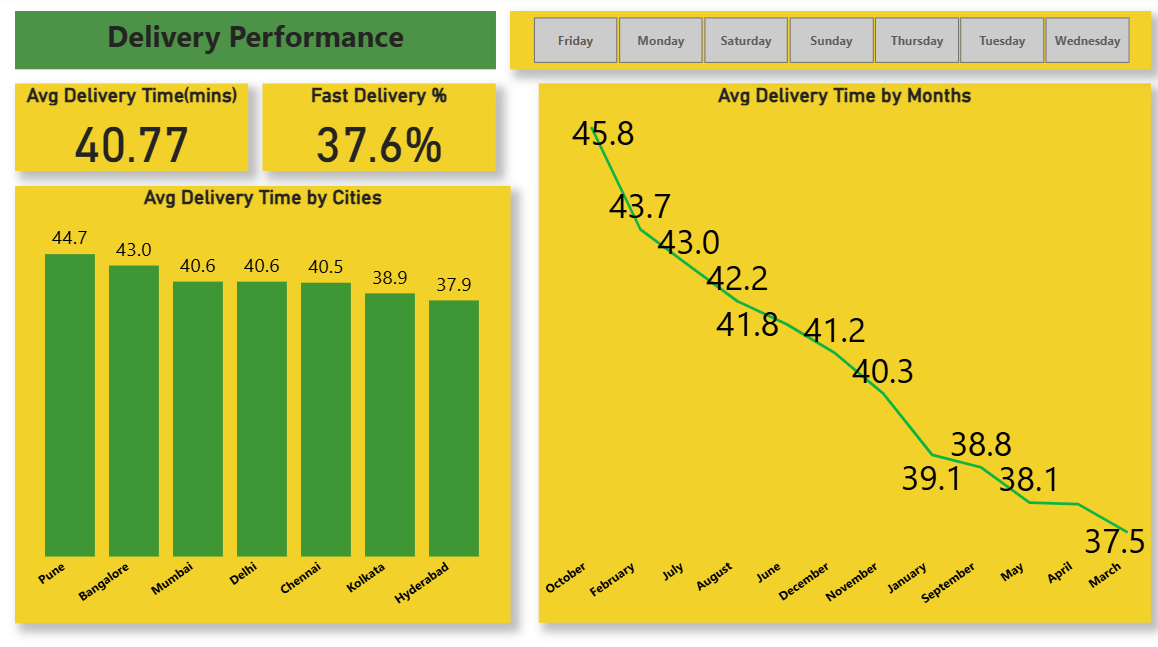

What the dashboard file says about the page in this screenshot:
{"tool":"powerbi","page":{"name":"Delivery Performance","canvas":[1280,720],"ordinal":3},"visuals":[{"type":"textbox","box":[16,16,528,64],"z":0},{"type":"card","title":"Avg Delivery Time(mins)","fields":{"Values":["new_update_blinkit_dataset.Avg Delivery Time"]},"box":[16,96,256,96],"z":1000},{"type":"card","title":"Fast Delivery %","fields":{"Values":["new_update_blinkit_dataset.Fast Delivery %"]},"box":[288,96,256,96],"z":2000},{"type":"clusteredColumnChart","title":"Avg Delivery Time by Cities","fields":{"Y":["new_update_blinkit_dataset.Avg Delivery Time"],"Category":["new_update_blinkit_dataset.City"]},"box":[16,208,544,480],"z":3000},{"type":"lineChart","title":"Avg Delivery Time by Months","fields":{"Category":["new_update_blinkit_dataset.Month"],"Y":["Avg(new_update_blinkit_dataset.Delivery Time (mins))"]},"box":[592,96,672,592],"z":4000},{"type":"slicer","fields":{"Values":["new_update_blinkit_dataset.Day"]},"box":[560,16,704,64],"z":5000}]}

Visuals, with their boxes in screenshot pixels (x1, y1, x2, y2), scaled from the page's 1280x720 canvas onto the 1158x647 screenshot:
textbox: bbox(14, 14, 492, 72)
"Avg Delivery Time(mins)" card: bbox(14, 86, 246, 173)
"Fast Delivery %" card: bbox(261, 86, 492, 173)
"Avg Delivery Time by Cities" clusteredColumnChart: bbox(14, 187, 507, 618)
"Avg Delivery Time by Months" lineChart: bbox(536, 86, 1144, 618)
slicer - new_update_blinkit_dataset.Day: bbox(507, 14, 1144, 72)
